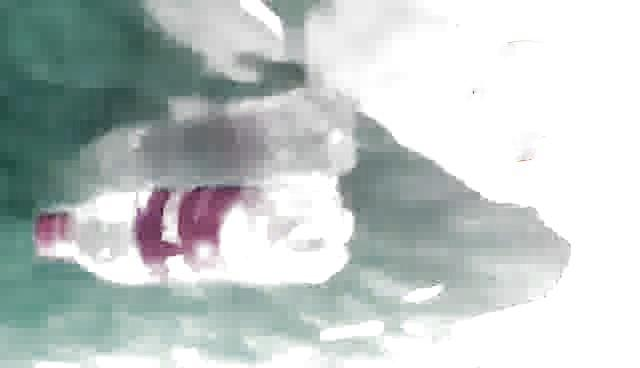Plastic: (25, 170, 362, 295)
